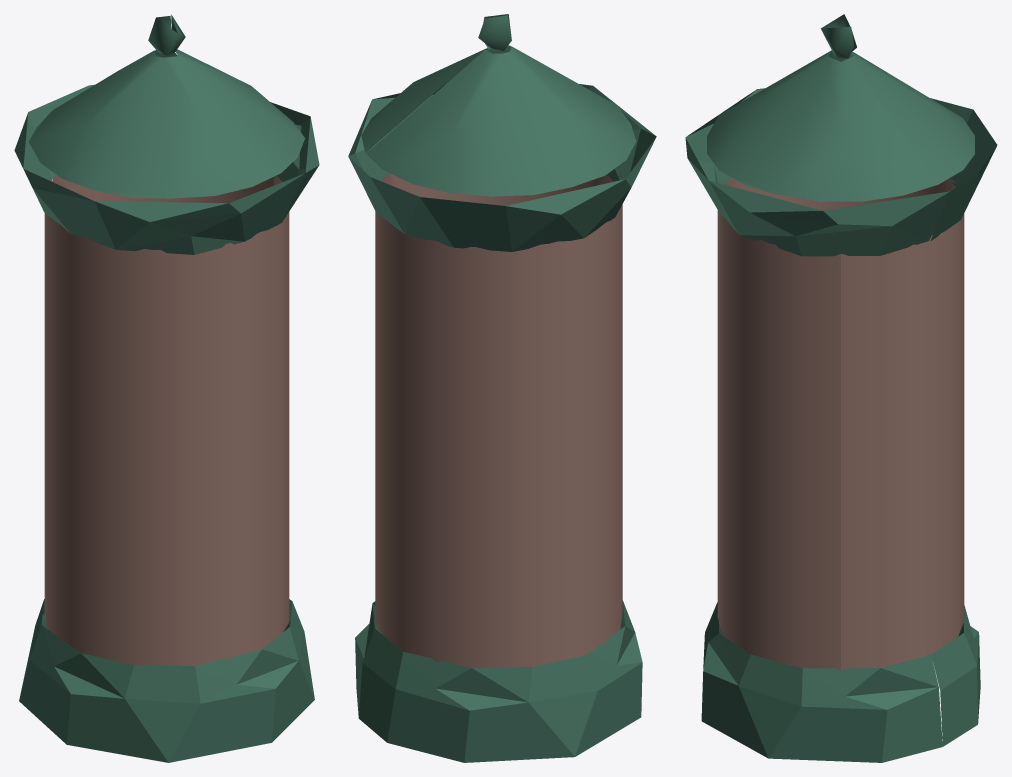
Rendered from advertising-column-lod1.glb.
3 renders of one model, left to right at view 1: azimuth 30°, elevation 25°; view 2: azimuth 150°, elevation 25°; view 3: azimuth 270°, elevation 25°, orthographic.
Visible parts, largest first — view 1: advertising-column.001; view 2: advertising-column.001; view 3: advertising-column.001.
Boxes of the visible parts, x1,y1,x2,y2 form: advertising-column.001: [14, 14, 319, 762]; advertising-column.001: [348, 14, 656, 762]; advertising-column.001: [685, 14, 997, 762].
Bounding box in the file's own units: 1.51 × 3.68 × 1.52.
